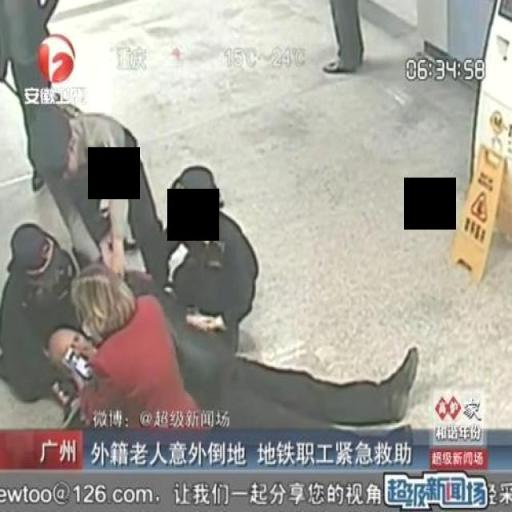Fall: (29, 316, 426, 459)
